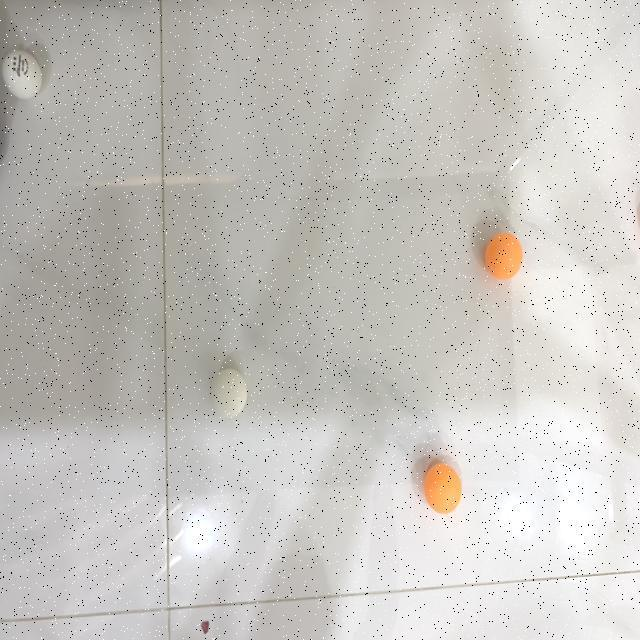ping-pong-ball: (1, 50, 43, 100), (424, 462, 462, 515), (485, 232, 525, 280), (212, 368, 248, 420)
